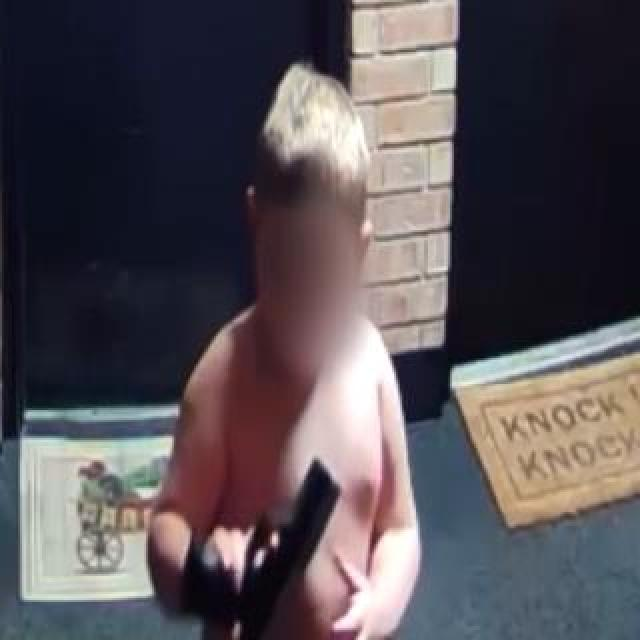Guns: (165, 433, 368, 640)
